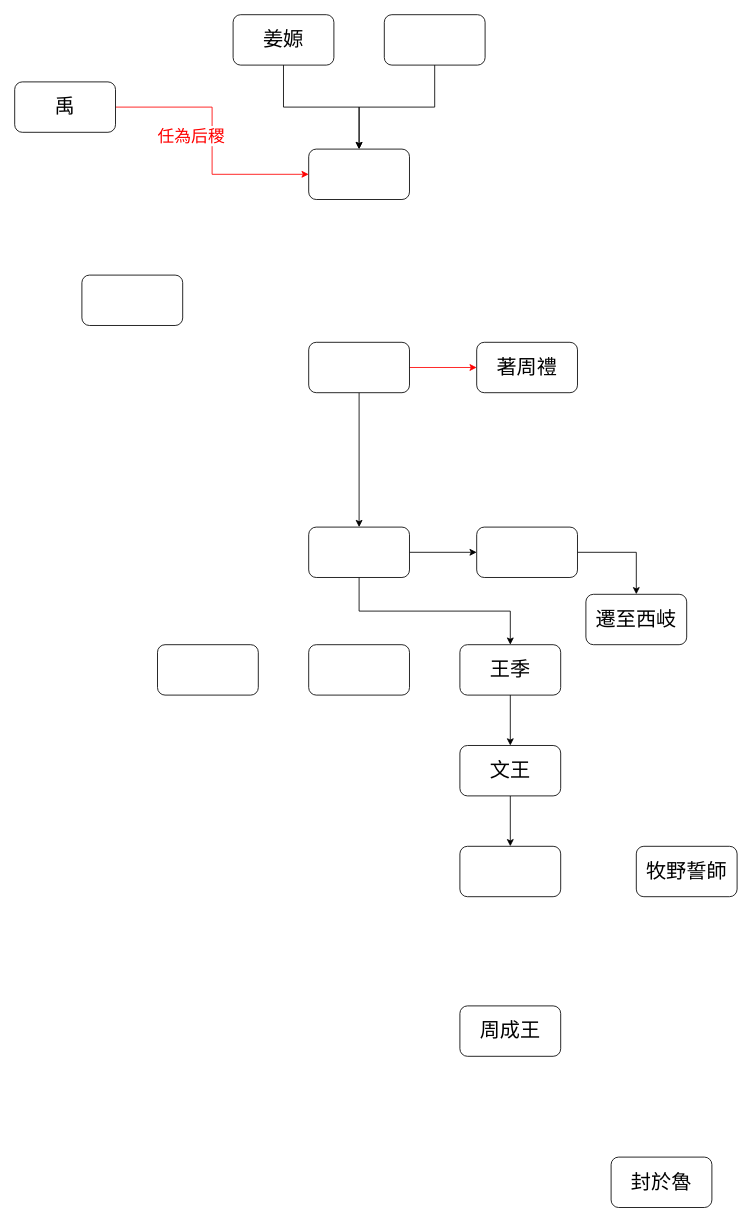
The diagram is 752 pixels wide and 1222 high, and some of its shapes have lost their labels. The box of each missing label's shape, as (x1, y1, x2, y2) in pixels:
公劉(遷居豳)(建濱): (308, 341, 410, 393)
太王 (古公亶父): (308, 526, 410, 578)
棄(后稷): (308, 148, 410, 200)
武王(伐紂): (459, 845, 561, 897)
讓出濱: (476, 526, 578, 578)
